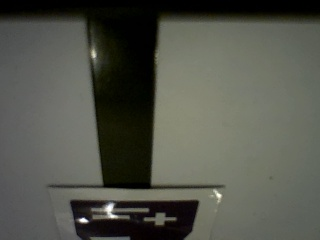Supply_Station: (69, 199, 200, 240)
